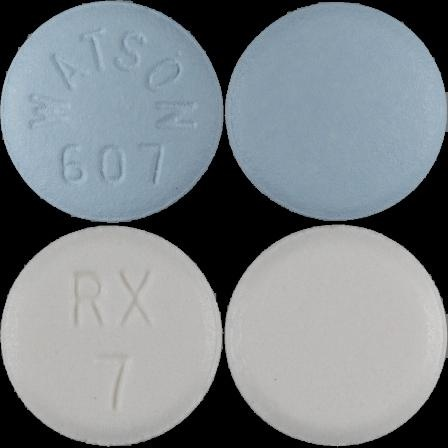0904-5930: (0, 0, 224, 224)
